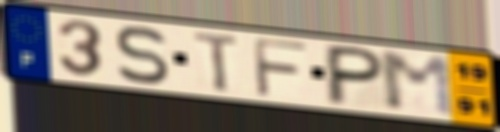3: (55, 18, 104, 79)
F: (250, 35, 312, 100)
M: (375, 50, 461, 119)
P: (323, 42, 389, 107)
S: (113, 24, 172, 87)
T: (191, 30, 243, 93)
